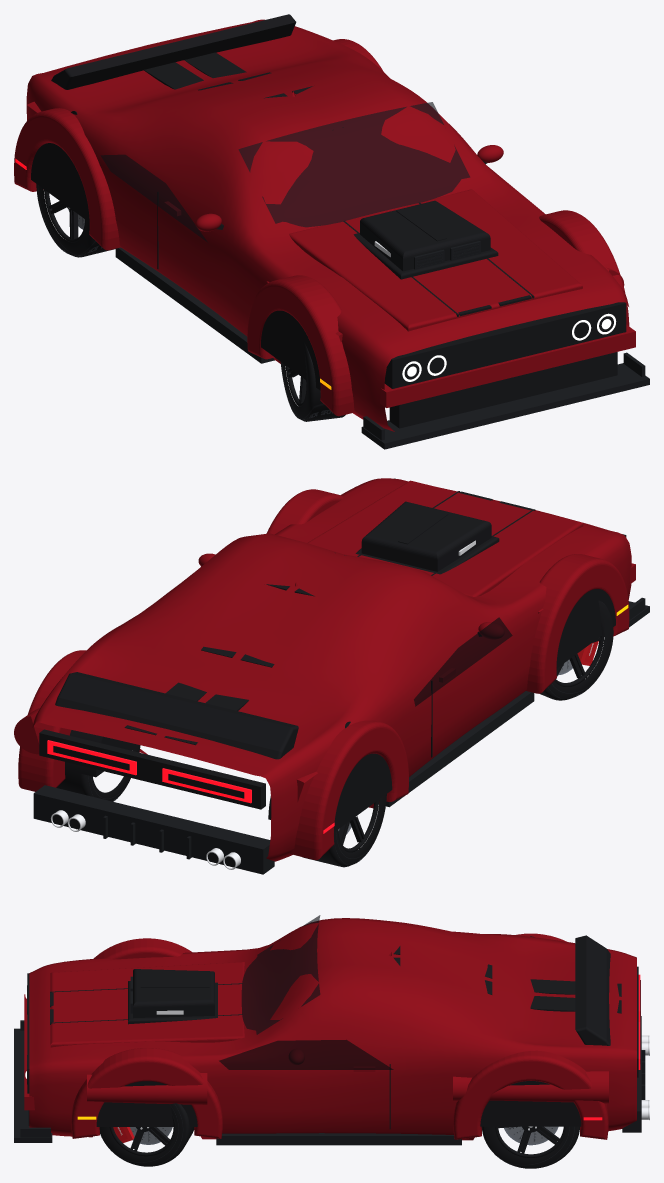
File: crimson-v8-shaker-muscle-car.glb
3 renders of one model, top to bottom at view 1: azimuth 30°, elevation 25°; view 2: azimuth 150°, elevation 25°; view 3: azimuth 270°, elevation 25°, orthographic. The views are drawn at different scales.
Visible parts, largest first — view 1: SculptedBodyShell, FrontGrilleAndHaloHeadlights, WidebodyMuscularFenders, CabinGreenhouseAndGlass, FunctionalShakerIntakeScoop, DucktailSpoilerAndQuadExhaust, wheel-fr, wheel-rr; view 2: SculptedBodyShell, DucktailSpoilerAndQuadExhaust, WidebodyMuscularFenders, FunctionalShakerIntakeScoop, CabinGreenhouseAndGlass, wheel-fr, wheel-rr, wheel-rl; view 3: SculptedBodyShell, WidebodyMuscularFenders, CabinGreenhouseAndGlass, DucktailSpoilerAndQuadExhaust, FunctionalShakerIntakeScoop, wheel-fl, FrontGrilleAndHaloHeadlights, wheel-rl.
Part boxes in pixels (x1,y1,x2,y2): SculptedBodyShell: [26, 19, 628, 431]; FrontGrilleAndHaloHeadlights: [361, 302, 649, 449]; WidebodyMuscularFenders: [14, 39, 629, 416]; CabinGreenhouseAndGlass: [100, 91, 503, 242]; FunctionalShakerIntakeScoop: [353, 200, 498, 279]; DucktailSpoilerAndQuadExhaust: [51, 14, 296, 89]; wheel-fr: [280, 340, 345, 421]; wheel-rr: [36, 184, 115, 257]; SculptedBodyShell: [32, 478, 631, 861]; DucktailSpoilerAndQuadExhaust: [33, 672, 298, 874]; WidebodyMuscularFenders: [14, 489, 629, 860]; FunctionalShakerIntakeScoop: [355, 501, 499, 574]; CabinGreenhouseAndGlass: [198, 553, 512, 706]; wheel-fr: [539, 600, 613, 700]; wheel-rr: [302, 794, 386, 867]; wheel-rl: [56, 745, 140, 801]; SculptedBodyShell: [29, 918, 636, 1145]; WidebodyMuscularFenders: [71, 933, 608, 1139]; CabinGreenhouseAndGlass: [219, 915, 393, 1069]; DucktailSpoilerAndQuadExhaust: [575, 935, 649, 1132]; FunctionalShakerIntakeScoop: [128, 969, 217, 1024]; wheel-fl: [99, 1103, 194, 1166]; FrontGrilleAndHaloHeadlights: [14, 973, 52, 1142]; wheel-rl: [481, 1126, 579, 1168].
Bounding box in the file's own units: 2.53 × 1.39 × 4.97.
Materials: 16 (4 with a texture image).
